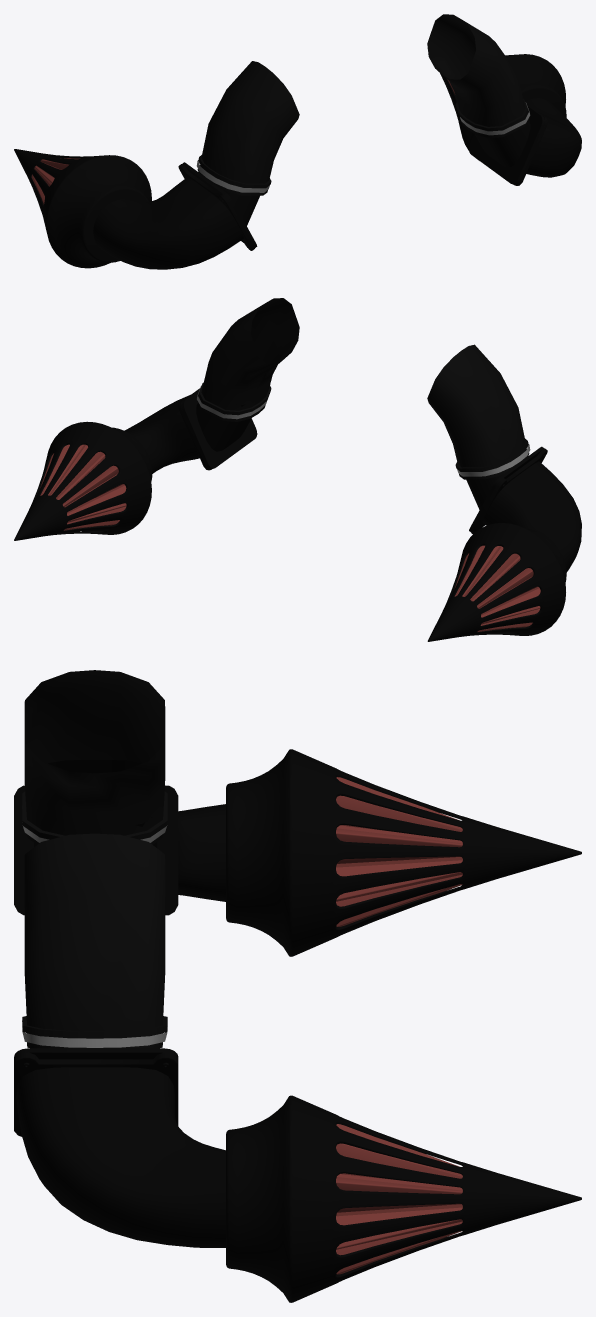
Rendered from Intake_SPIKE_BLK_MTT.glb.
3 views of the same model, one above another, from view 1: azimuth 30°, elevation 25°; view 2: azimuth 150°, elevation 25°; view 3: azimuth 270°, elevation 25° (orthographic). The views are drawn at different scales.
Visible parts, largest first — view 1: Intake_SPIKE_BLK_MTT; view 2: Intake_SPIKE_BLK_MTT; view 3: Intake_SPIKE_BLK_MTT.
Boxes of the visible parts, box(x1,y1,x2,y2) form: Intake_SPIKE_BLK_MTT: box(14, 14, 581, 269); Intake_SPIKE_BLK_MTT: box(14, 298, 581, 641); Intake_SPIKE_BLK_MTT: box(14, 670, 581, 1302).
Size of the model in its own units: 0.6159 by 0.2438 by 0.3407.
